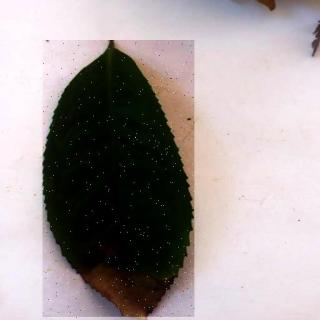Brown Blight: (44, 42, 196, 319)
